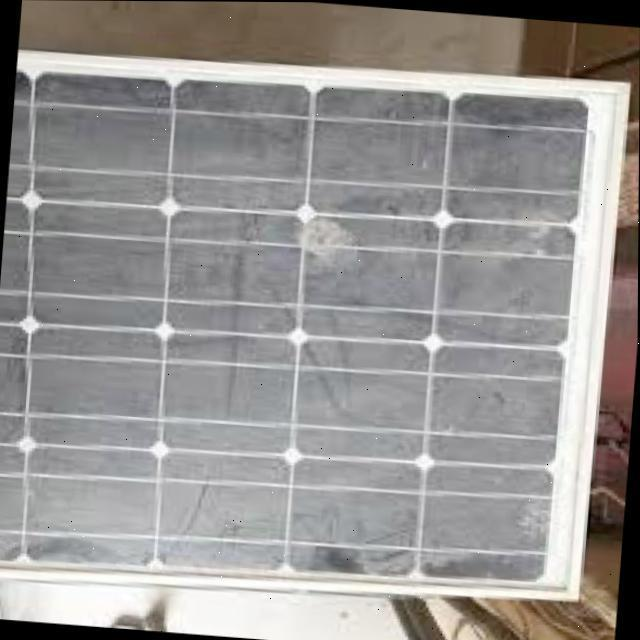Anomaly Solar Panel: (0, 61, 592, 588)
Surface Contaminant: (0, 71, 581, 590)
